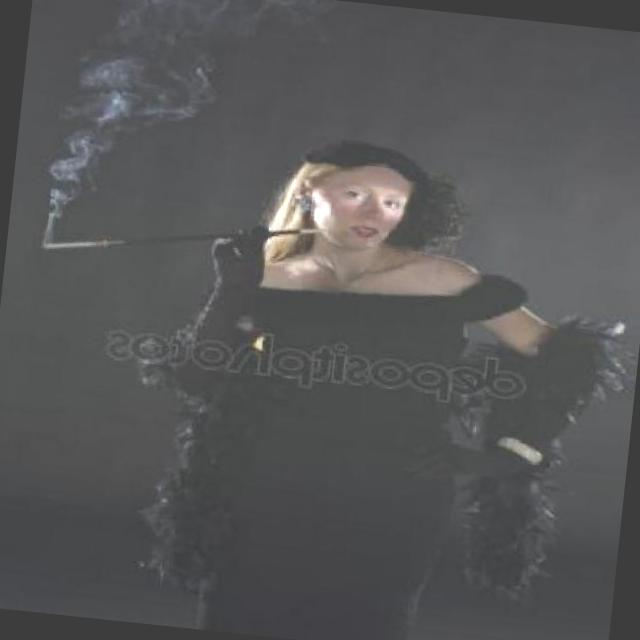smoke: (36, 232, 106, 258)
